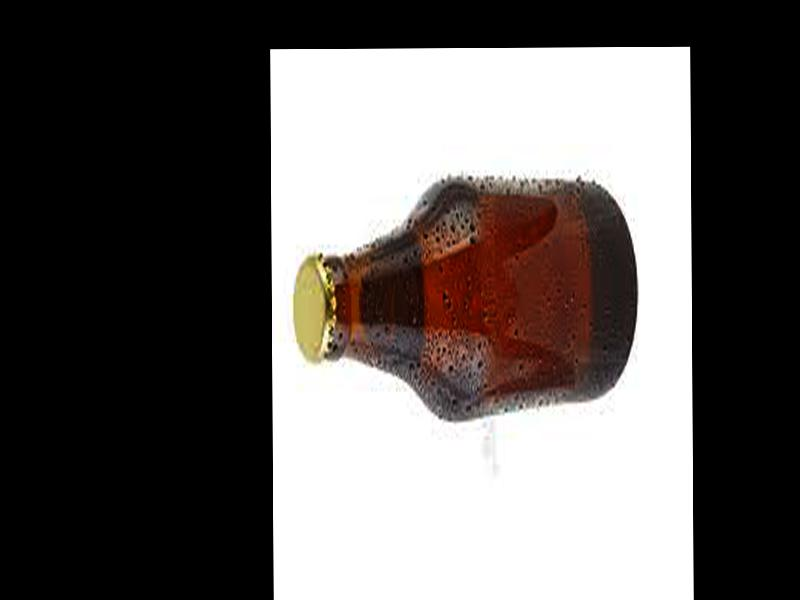Beer: (292, 182, 636, 404)
